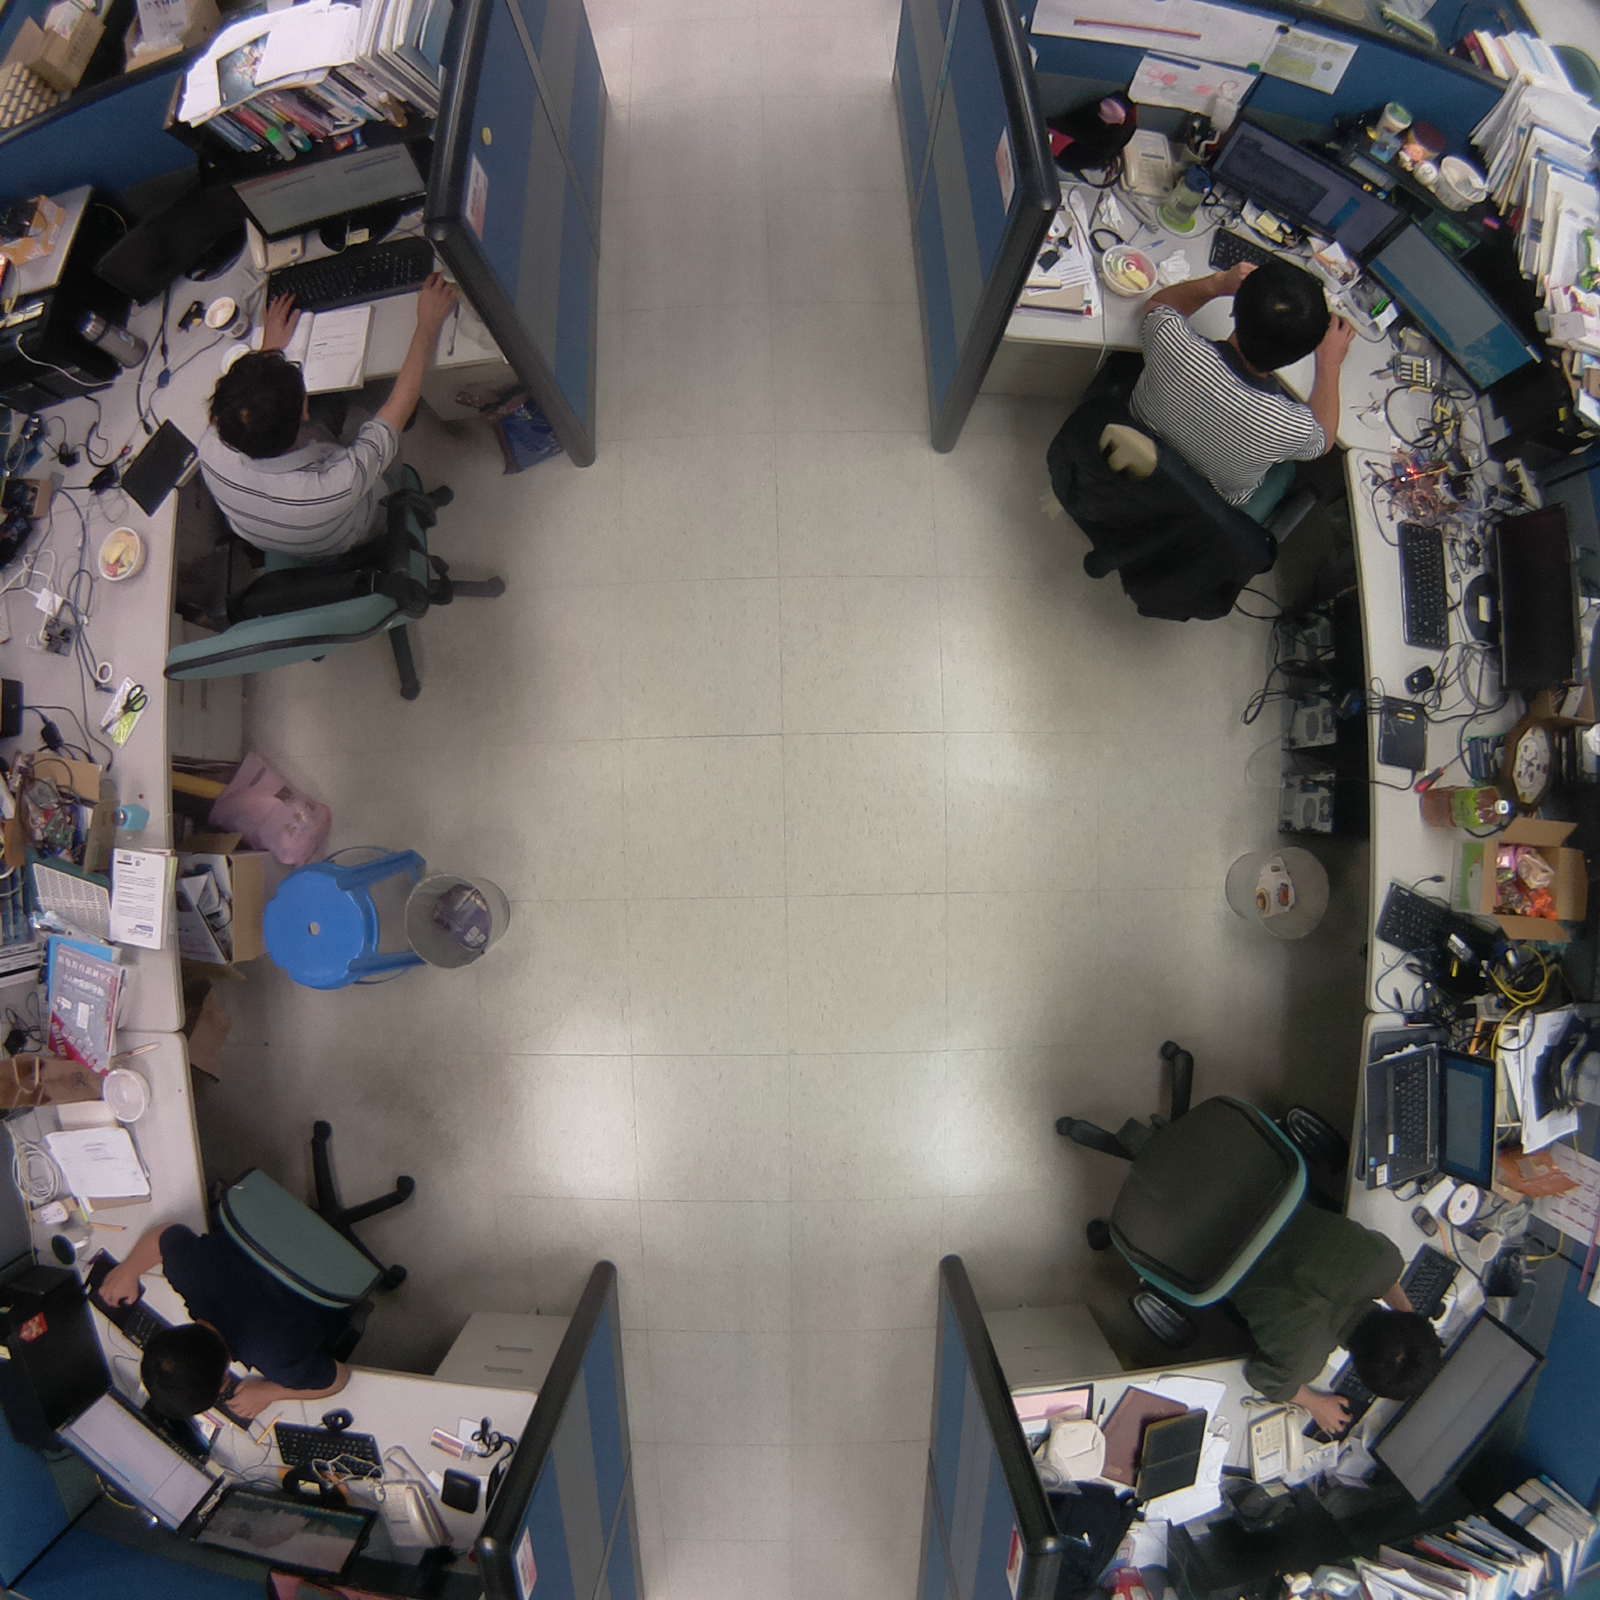head: (208, 348, 315, 465), (1229, 261, 1334, 374), (136, 1319, 234, 1425), (1346, 1302, 1446, 1406)
sitting: (1032, 1024, 1456, 1438), (119, 304, 529, 717), (1027, 249, 1356, 647), (87, 1106, 429, 1426)
